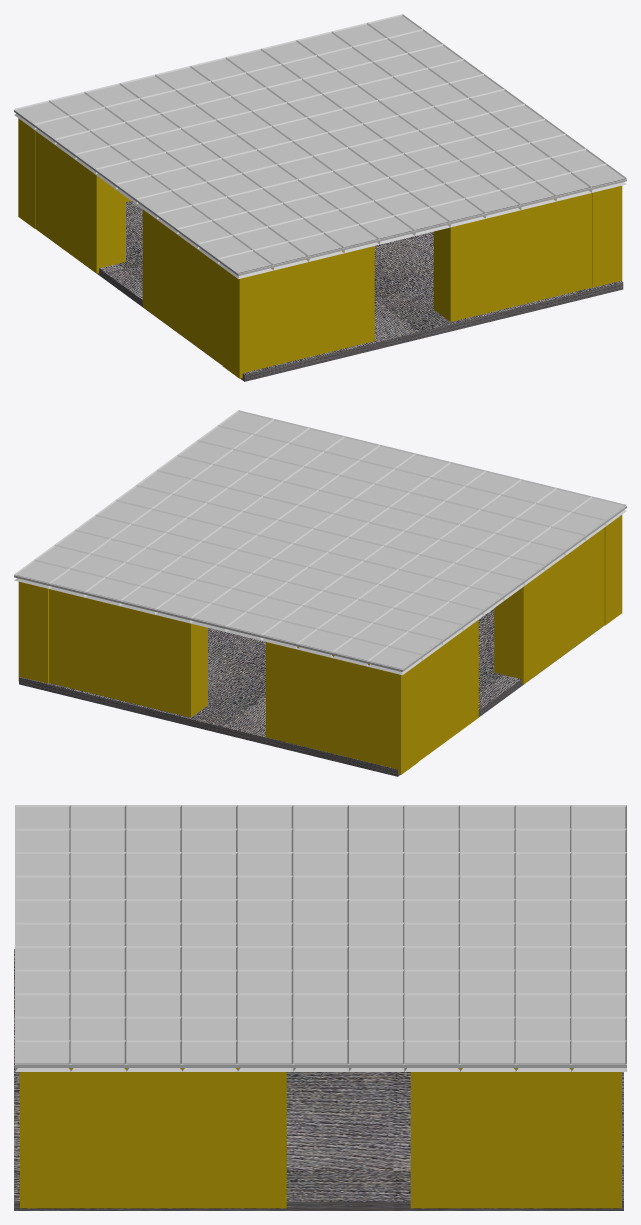
The model's file is SecondRoom.obj.
The picture shows the model from 3 angles, top to bottom: view 1: azimuth 30°, elevation 25°; view 2: azimuth 150°, elevation 25°; view 3: azimuth 270°, elevation 25°; orthographic projection. The views are drawn at different scales.
Parts seen in each view (by area): view 1: Roof_Plane.002, Plane_Plane.001, Cube.014_Cube.015, Cube.013_Cube.014, Floor_Cube, Cube.011_Cube.012, Cube.012_Cube.013, Cube.009_Cube.010, Cube.001_Cube.002; view 2: Roof_Plane.002, Plane_Plane.001, Cube.010_Cube.011, Cube.001_Cube.002, Floor_Cube, Cube.012_Cube.013, Cube.011_Cube.012, Cube.002_Cube.003, Cube.013_Cube.014; view 3: Roof_Plane.002, Cube.009_Cube.010, Plane_Plane.001, Cube.002_Cube.003, Floor_Cube.
Part boxes in pixels (x1,y1,x2,y2): Roof_Plane.002: (14, 16, 626, 275); Plane_Plane.001: (14, 14, 626, 278); Cube.014_Cube.015: (433, 190, 592, 321); Cube.013_Cube.014: (222, 246, 374, 378); Floor_Cube: (97, 201, 623, 381); Cube.011_Cube.012: (35, 131, 125, 273); Cube.012_Cube.013: (142, 209, 222, 365); Cube.009_Cube.010: (592, 185, 622, 287); Cube.001_Cube.002: (18, 118, 130, 228); Roof_Plane.002: (14, 412, 626, 671); Plane_Plane.001: (14, 410, 626, 675); Cube.010_Cube.011: (49, 589, 207, 717); Cube.001_Cube.002: (266, 642, 417, 774); Floor_Cube: (19, 608, 604, 776); Cube.012_Cube.013: (494, 527, 604, 684); Cube.011_Cube.012: (418, 620, 478, 761); Cube.002_Cube.003: (18, 581, 48, 683); Cube.013_Cube.014: (604, 515, 622, 625); Roof_Plane.002: (15, 807, 626, 1067); Cube.009_Cube.010: (20, 1068, 286, 1208); Plane_Plane.001: (15, 805, 626, 1071); Cube.002_Cube.003: (410, 1068, 621, 1208); Floor_Cube: (14, 949, 623, 1210).
Bounding box in the file's own units: 115 × 30.97 × 115.
